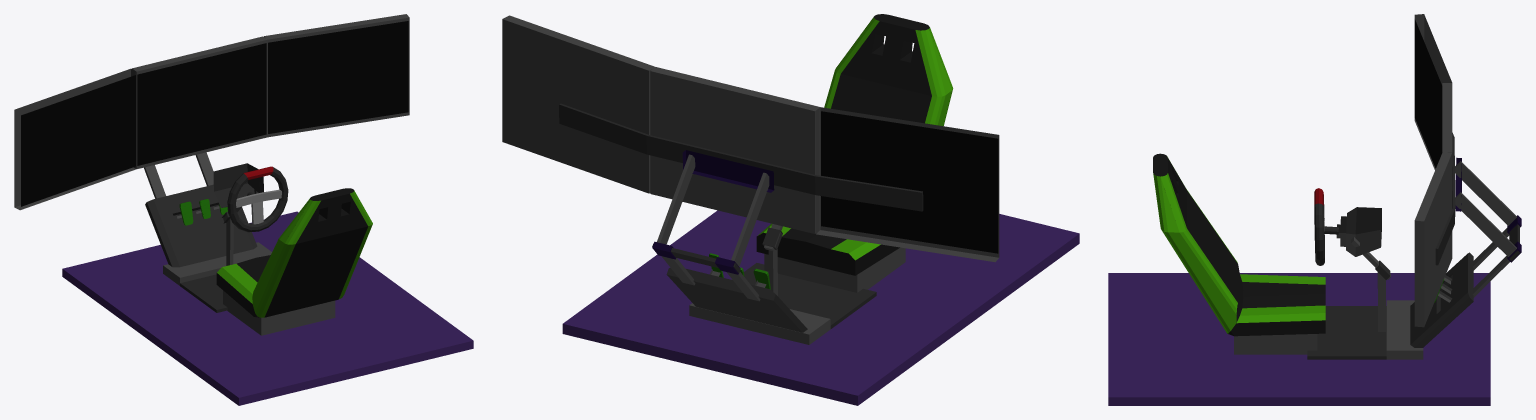
Rendered from carsim.glb.
3 renders of one model, left to right at view 1: azimuth 30°, elevation 25°; view 2: azimuth 150°, elevation 25°; view 3: azimuth 270°, elevation 25°, orthographic. The views are drawn at different scales.
Parts seen in each view (by area): view 1: racegame.001, racegame.005; view 2: racegame.001; view 3: racegame.001, racegame.005.
Boxes of the visible parts, left/top/right/bottom form: racegame.001: left=14, top=14, right=473, bottom=405; racegame.005: left=227, top=166, right=288, bottom=232; racegame.001: left=502, top=14, right=1079, bottom=405; racegame.001: left=1108, top=14, right=1521, bottom=405; racegame.005: left=1314, top=188, right=1324, bottom=265.
Size of the model in its own units: 3 by 1.53 by 2.53.
